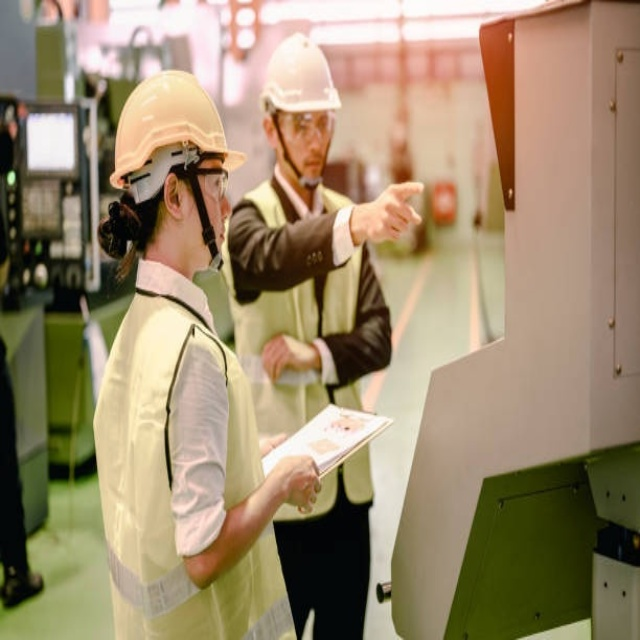Gafas: (275, 108, 336, 138), (185, 167, 230, 203)
Sin_guantes: (359, 176, 432, 250), (270, 452, 324, 517), (261, 331, 317, 384)
Sin_mascara: (209, 217, 230, 248), (299, 151, 325, 176)
